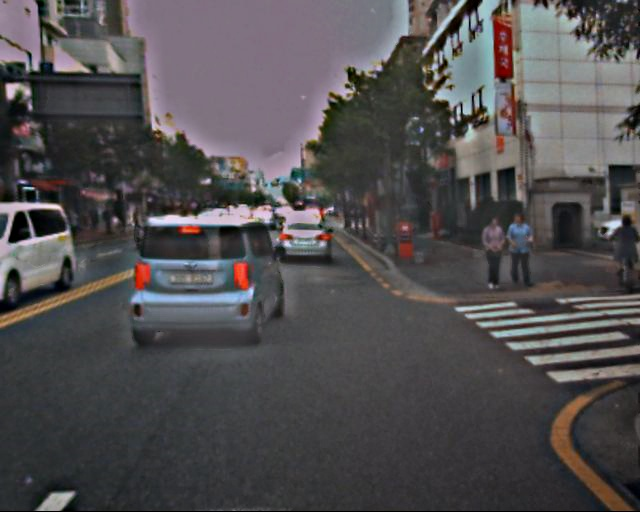person: (502, 210, 533, 285), (477, 216, 507, 290), (609, 216, 637, 285)
